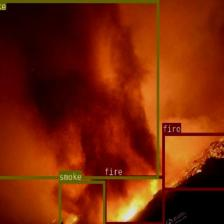fire: (161, 131, 224, 189), (104, 175, 164, 224)
smoke: (0, 0, 158, 178), (59, 180, 105, 224)
